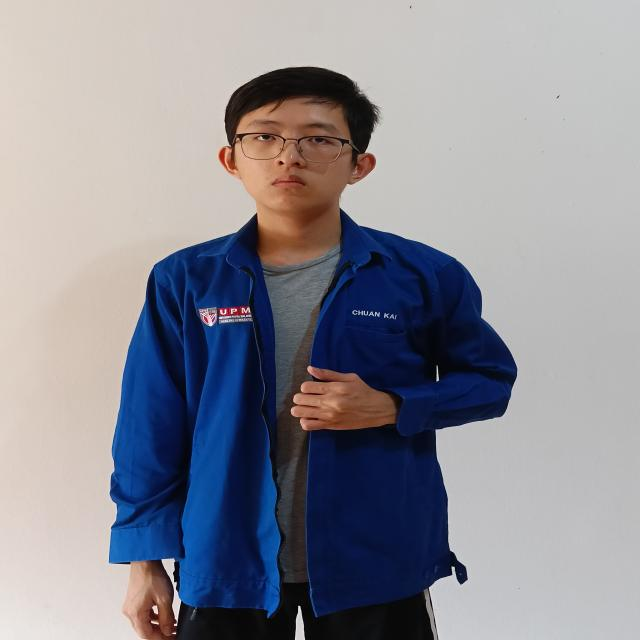person_with_labcoat: (110, 68, 516, 640)
